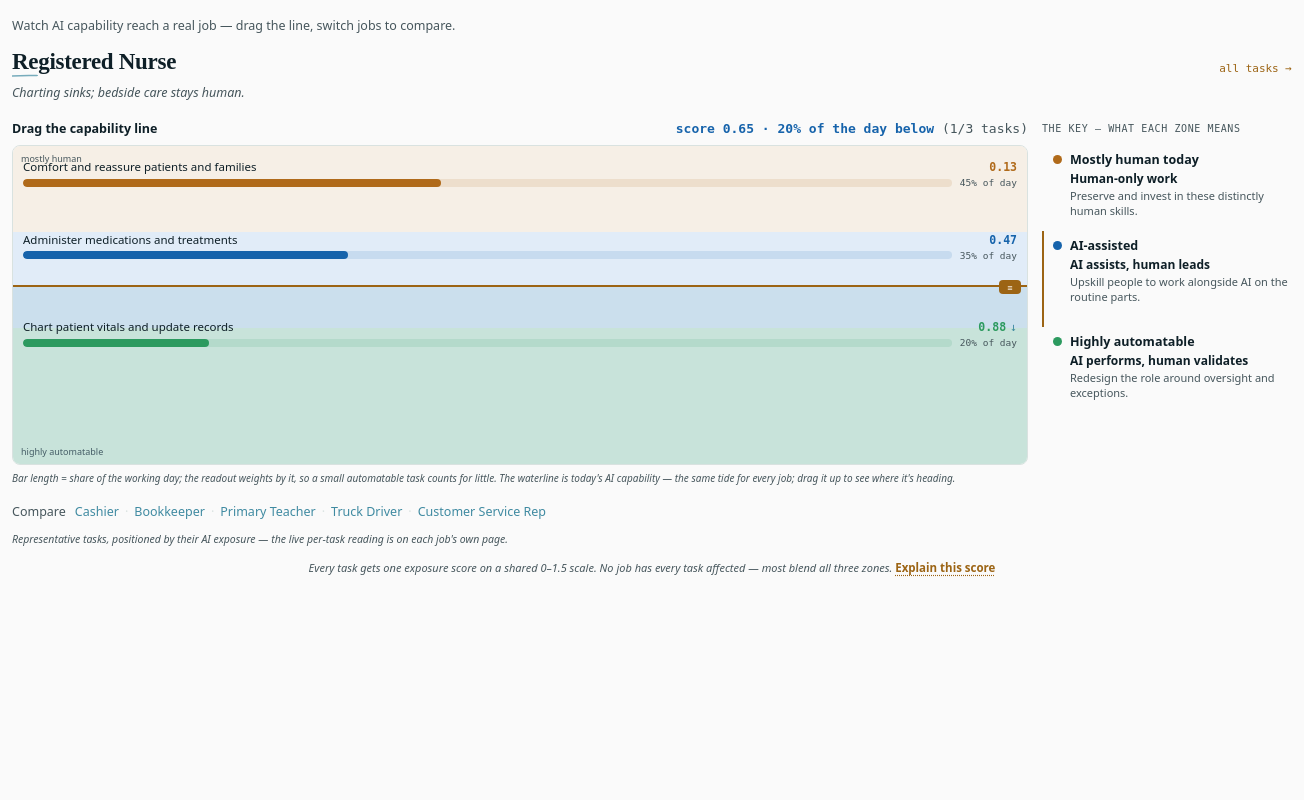
Test: ZoneExplorer (plain mode — the default) › opens the explainer with the formula and a methodology deep link
Click the button "Explain this score" at [945, 568], box [895,560,995,575]
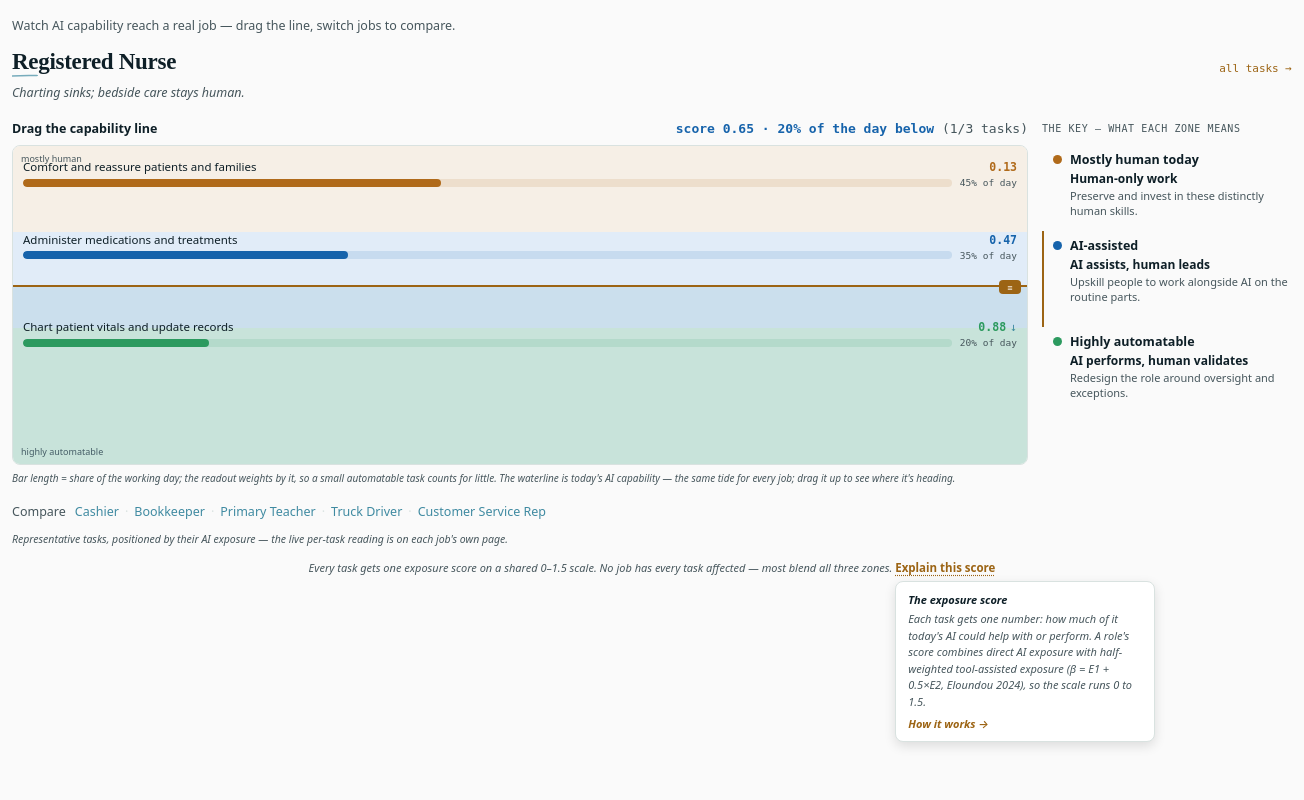
Now the text "The exposure score" is shown, box [908,592,1007,607]
